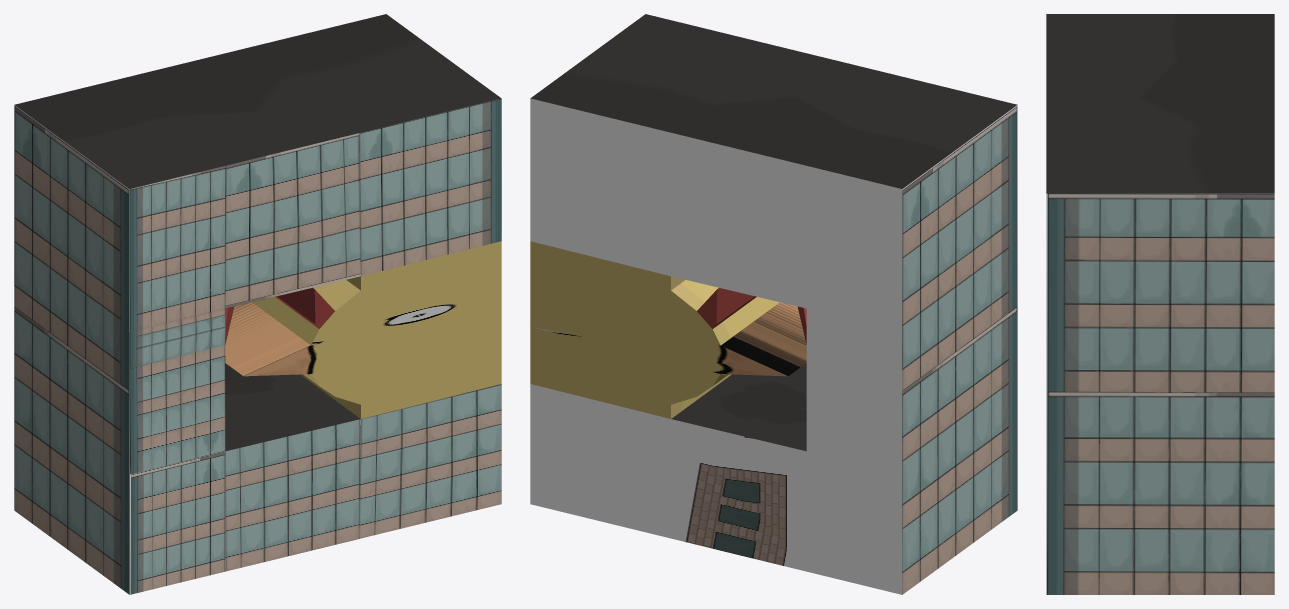
The model's file is building5.glb.
3 views of the same model, side by side, from view 1: azimuth 30°, elevation 25°; view 2: azimuth 150°, elevation 25°; view 3: azimuth 270°, elevation 25° (orthographic).
Visible parts, largest first — view 1: Building; view 2: Building; view 3: Building.
Part boxes in pixels (left/top/right/bottom): Building: left=14, top=14, right=501, bottom=594; Building: left=530, top=14, right=1017, bottom=594; Building: left=1046, top=14, right=1274, bottom=594.
Size of the model in its own units: 31.86 by 33.22 by 17.11.
Materials: 1 (1 with a texture image).
